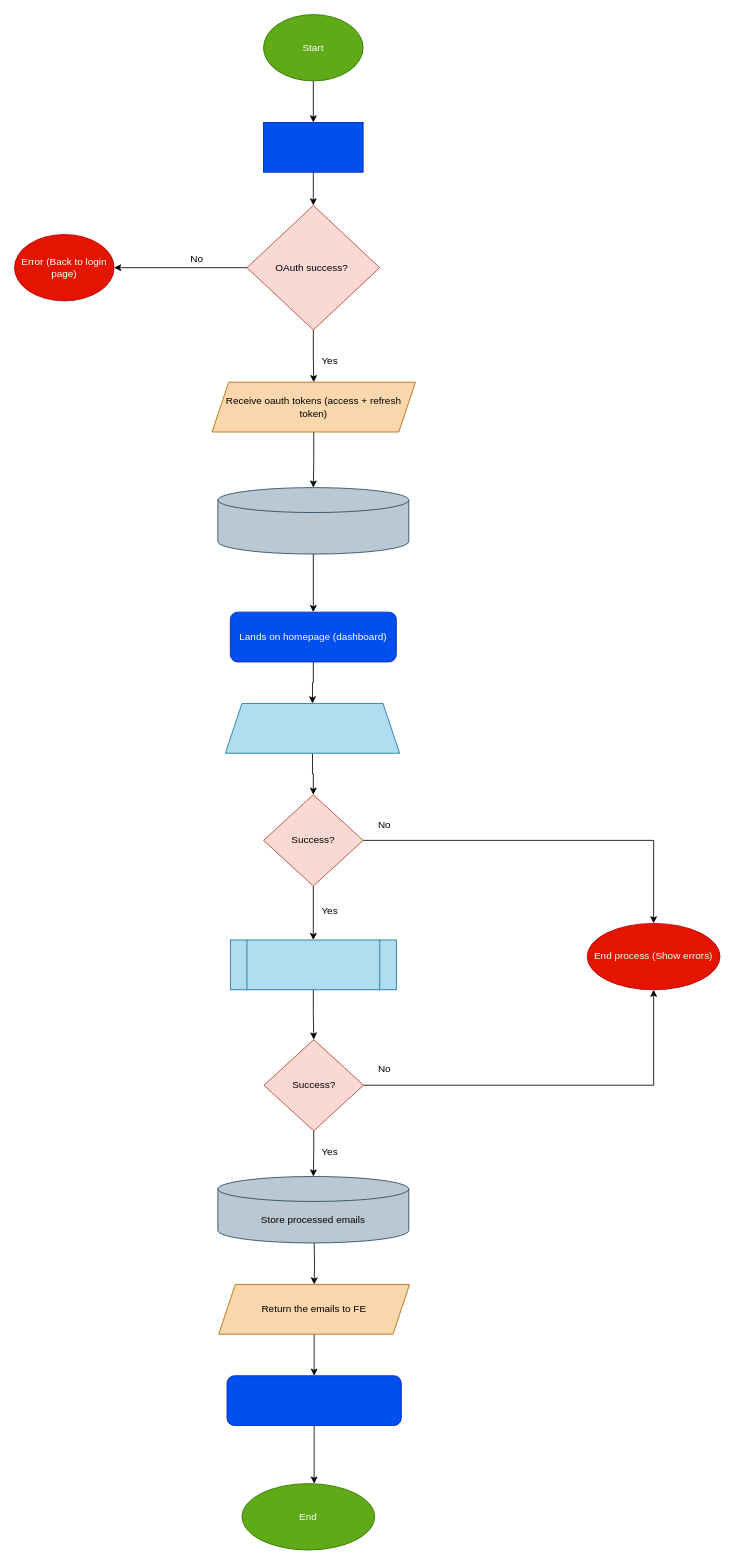
This 735x1565 diagram has some shape labels left out. The centre of each missing label's shape, as x and y in pixels:
Google Login: pixel 313 147
MCP Server process the fetched emails: pixel 312 964
Render in dashboard (use caching): pixel 313 1400
Store user info and oauth tokens: pixel 313 520
Trigger sync email server action (Use IMAP for fetching emails): pixel 312 728
